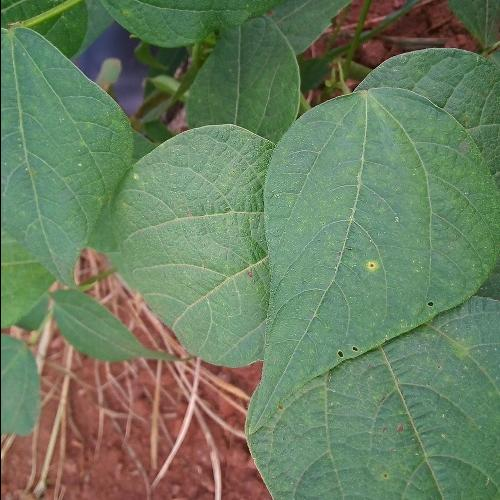mozaik: (320, 306, 440, 368)
sehat: (312, 114, 500, 282), (146, 136, 277, 362), (0, 26, 119, 273)
